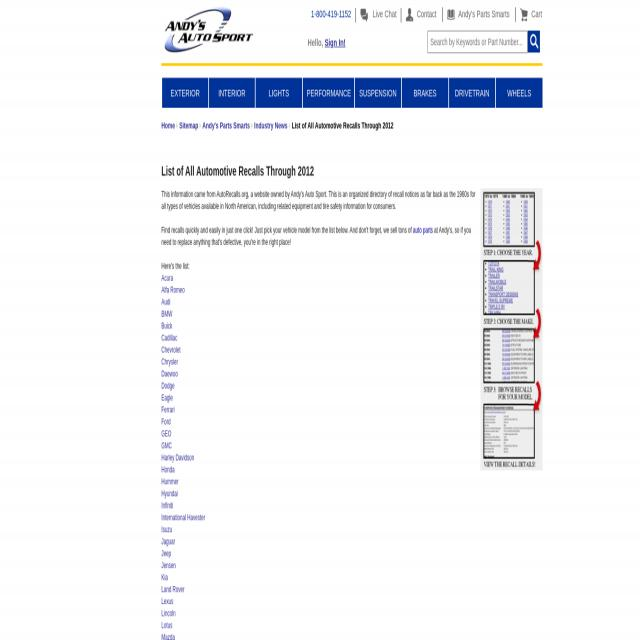button: (480, 189, 542, 470), (162, 6, 258, 53), (303, 78, 354, 108), (162, 77, 208, 108), (256, 77, 302, 108), (496, 78, 543, 108), (355, 78, 401, 108), (449, 78, 495, 108), (402, 78, 448, 108), (209, 78, 255, 108), (444, 3, 512, 23), (357, 5, 399, 23), (403, 4, 440, 23), (517, 5, 544, 22), (528, 30, 540, 53)
field: (427, 31, 528, 53)
